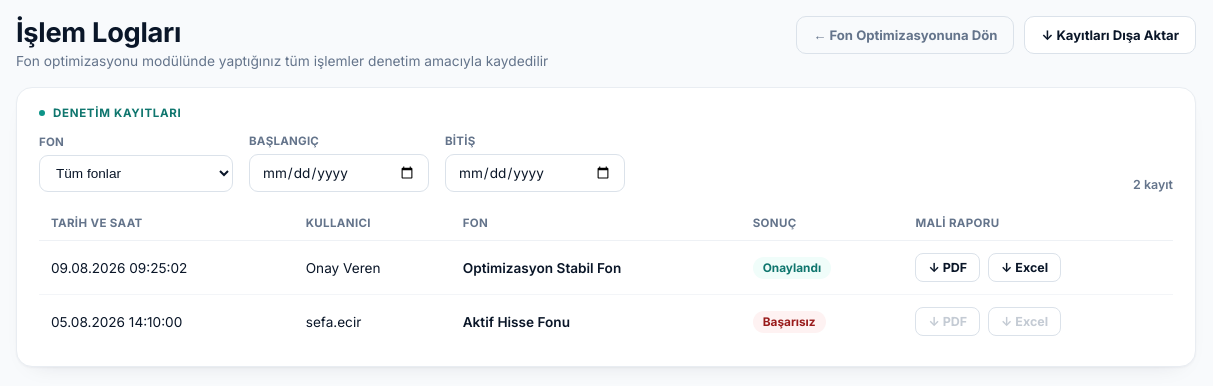
it: OptimizationLogsPage › filters rows by fund
Expected: the text "Optimizasyon Stabil Fon" is shown, left=451, top=240, right=741, bottom=294
Step 1. Select "Optimizasyon Stabil Fon" in the dropdown labelled "Fon" → (136, 174), box left=39, top=155, right=233, bottom=192
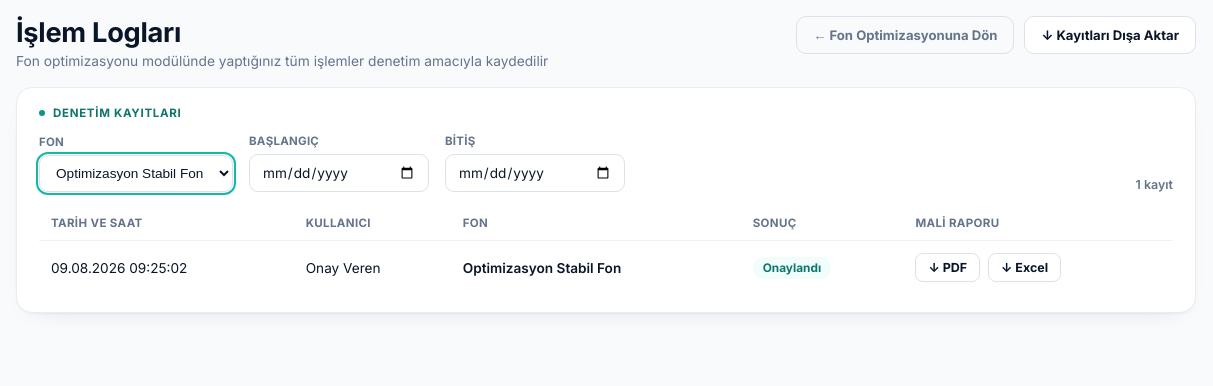
Expected: the text "Optimizasyon Stabil Fon" is shown, left=451, top=240, right=741, bottom=294
Result: the text "Aktif Hisse Fonu" is gone
Result: the text "1 kayıt" is shown at left=1136, top=177, right=1173, bottom=192
